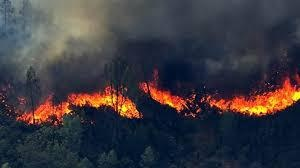fire: (141, 64, 300, 118), (16, 79, 140, 125)
